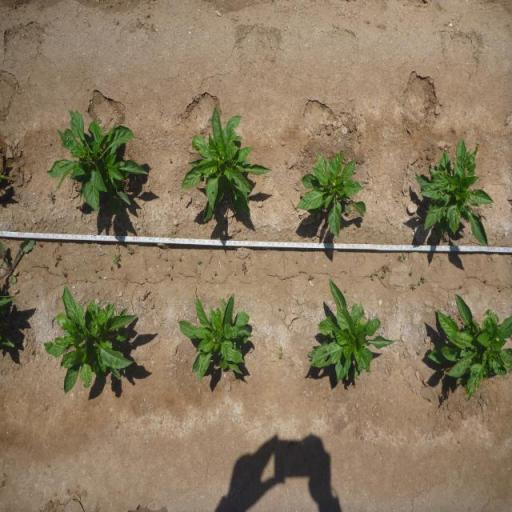plant: (179, 99, 273, 225), (42, 282, 138, 396), (52, 107, 150, 218), (425, 291, 512, 402), (410, 136, 495, 246), (309, 280, 396, 382), (176, 289, 255, 388), (294, 148, 367, 238)
weed: (0, 238, 36, 286), (396, 250, 407, 264), (112, 252, 121, 266), (53, 253, 62, 267), (417, 274, 427, 286), (241, 261, 249, 275), (277, 344, 284, 360), (126, 245, 135, 254), (48, 190, 54, 202), (382, 264, 390, 273), (408, 283, 416, 291), (307, 273, 315, 281), (114, 242, 121, 250), (369, 272, 374, 281), (374, 270, 380, 277), (408, 270, 413, 278), (62, 269, 67, 277), (416, 350, 422, 356), (213, 270, 218, 277), (109, 265, 114, 272), (380, 273, 386, 278), (197, 260, 202, 265), (169, 264, 174, 269), (58, 240, 62, 246), (179, 256, 182, 262)
